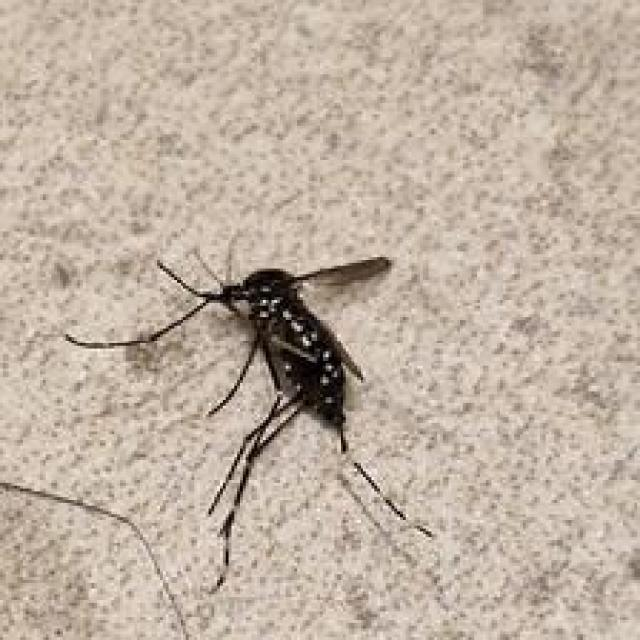Aedes albopictus: (63, 235, 434, 594)
